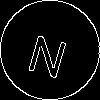N: (25, 25, 73, 79)
